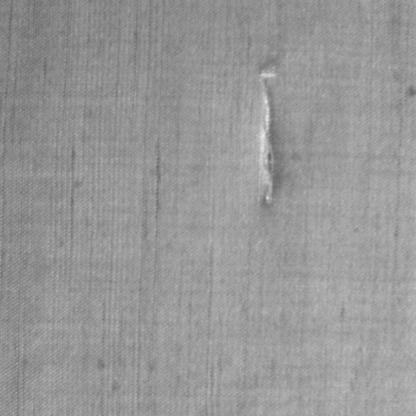hole: (255, 62, 281, 212)
